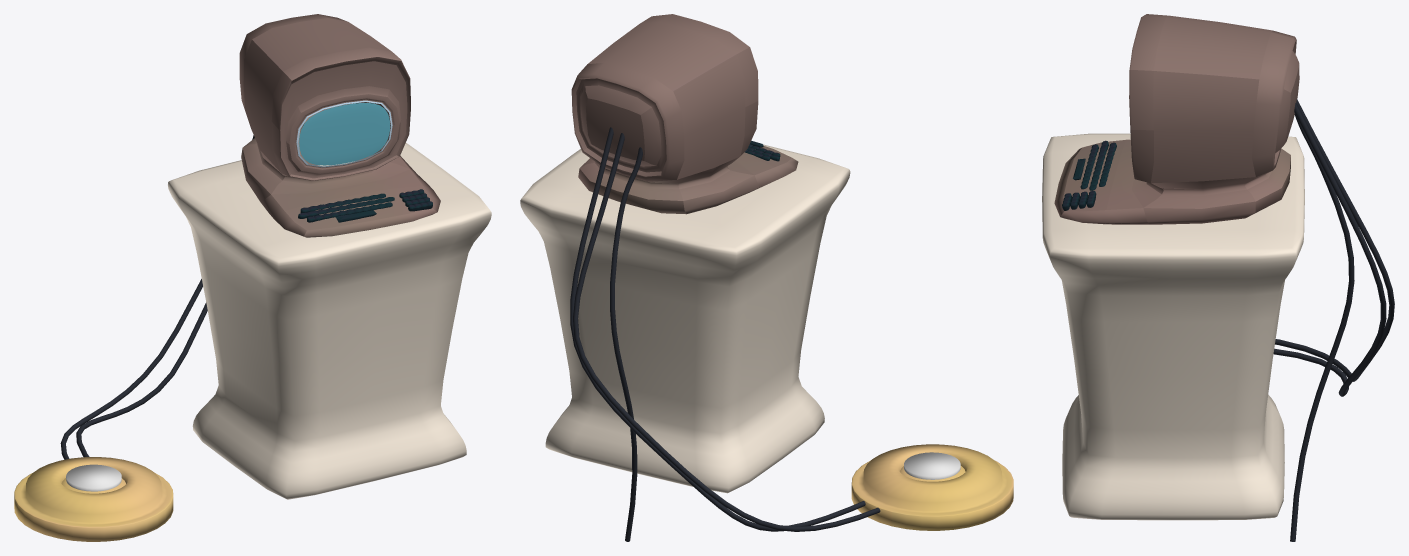
Rendered from Terminal_2.fbx.
3 renders of one model, left to right at view 1: azimuth 30°, elevation 25°; view 2: azimuth 150°, elevation 25°; view 3: azimuth 270°, elevation 25°, orthographic. The views are drawn at different scales.
Parts seen in each view (by area): view 1: PC.2, Desktop.2, Light.001; view 2: PC.2, Light.001; view 3: PC.2.
Boxes of the visible parts, x1,y1,x2,y2 form: PC.2: (14,14,491,541); Desktop.2: (299,102,390,165); Light.001: (66,464,121,491); PC.2: (520,14,1013,541); Light.001: (904,452,960,479); PC.2: (1042,14,1394,541).
Size of the model in its own units: 189 by 197 by 123.
